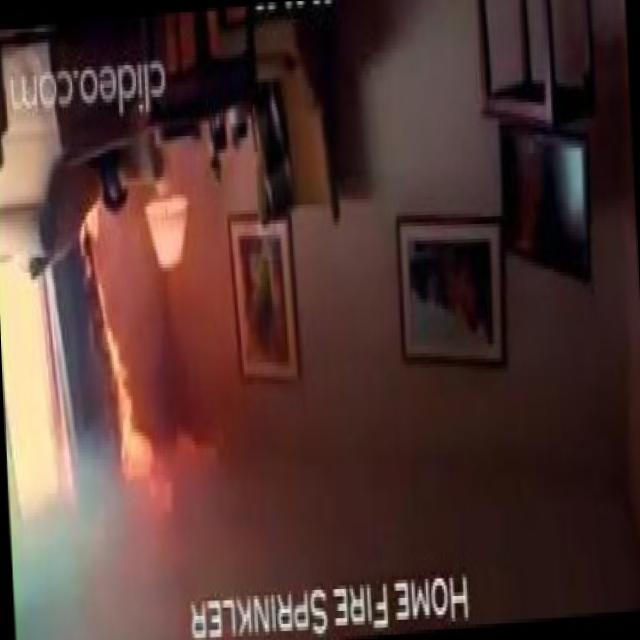fire: (67, 210, 182, 564)
